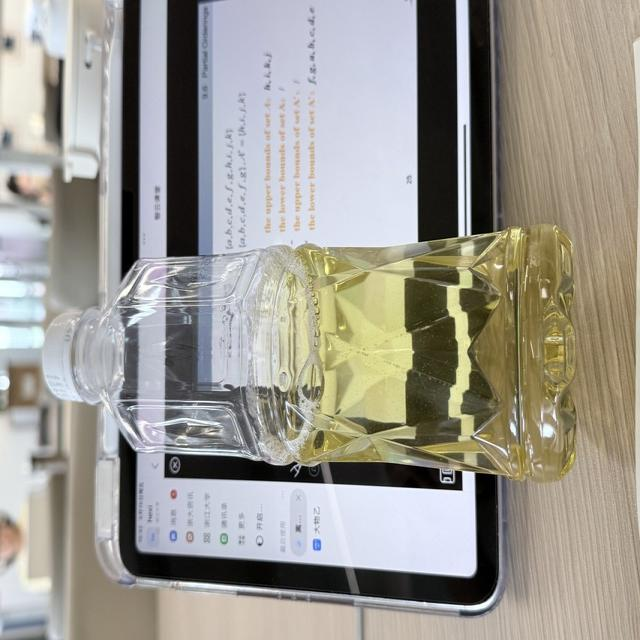medium: (44, 225, 575, 480)
